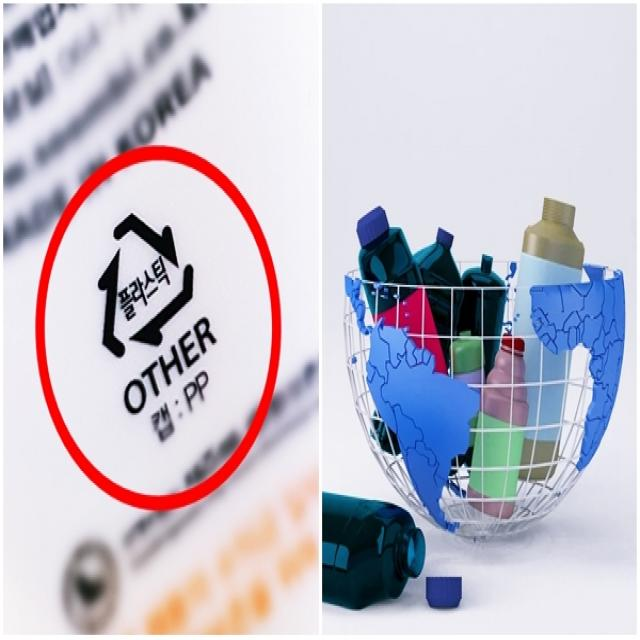Plastic: (94, 205, 200, 367)
